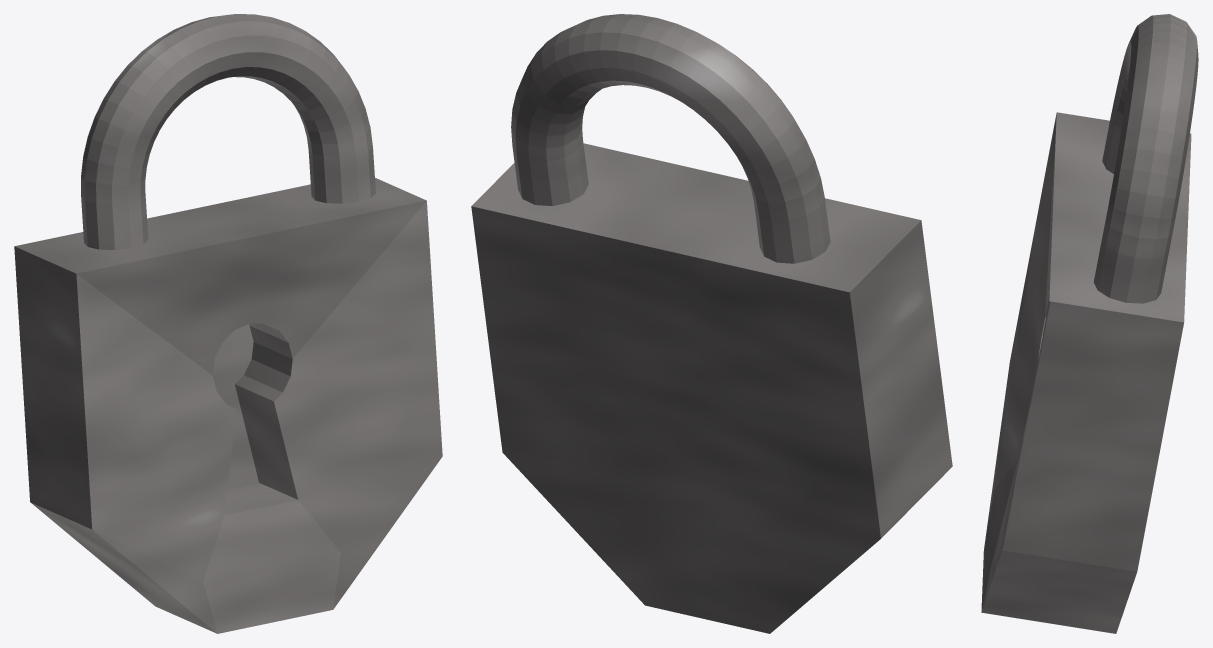
The model's file is box_lock (1).fbx.
The picture shows the model from 3 angles, left to right: view 1: azimuth 30°, elevation 25°; view 2: azimuth 150°, elevation 25°; view 3: azimuth 270°, elevation 25°; orthographic projection. The views are drawn at different scales.
Visible parts, largest first — view 1: Key Lock; view 2: Key Lock; view 3: Key Lock.
Part boxes in pixels (x1,y1,x2,y2): Key Lock: (14,14,442,633); Key Lock: (471,14,952,633); Key Lock: (981,14,1198,633).
Bounding box in the file's own units: 35.67 × 53.25 × 17.84.
1 material, 1 textured.
